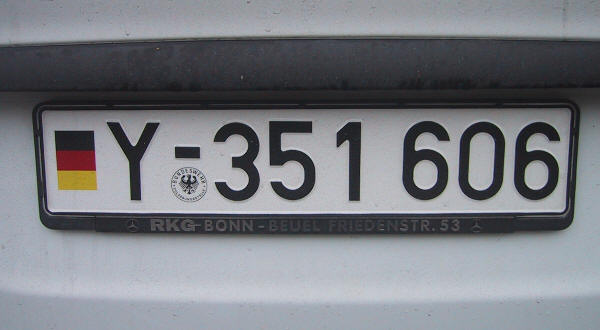license_plate: (36, 104, 571, 218)
